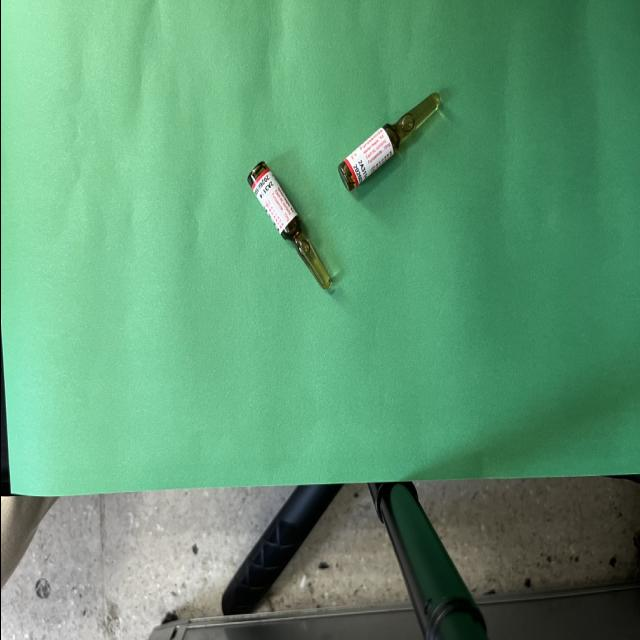Ampoules: (247, 162, 330, 289), (338, 93, 439, 191)
